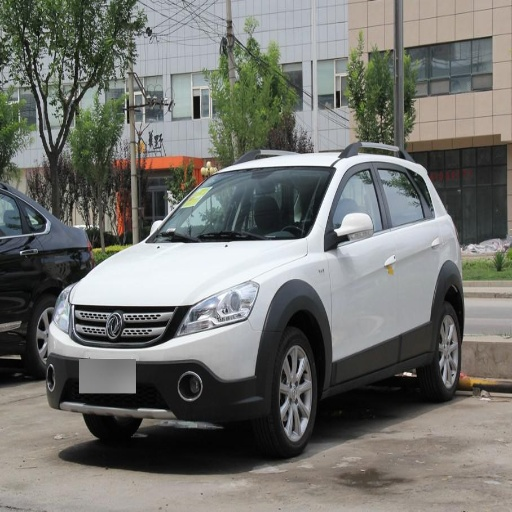front_bumper: (43, 301, 274, 427)
front_glass: (148, 167, 334, 241)
front_left_door: (329, 161, 399, 379)
